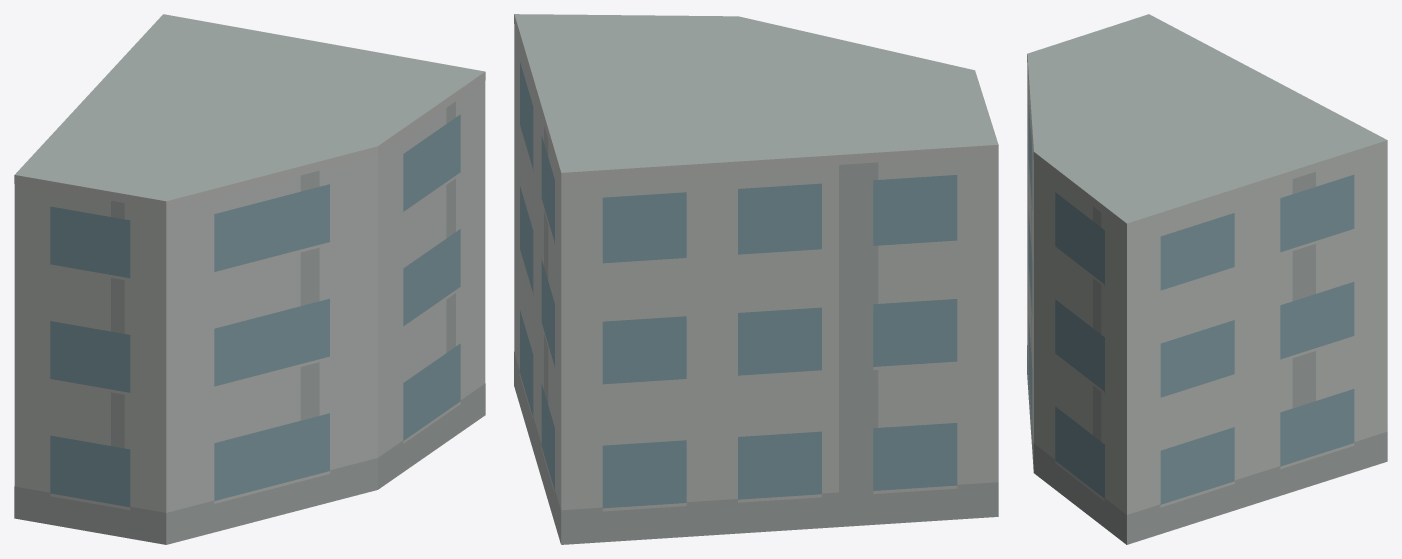
The model's file is survey-upis-32504126.glb.
3 renders of one model, left to right at view 1: azimuth 30°, elevation 25°; view 2: azimuth 150°, elevation 25°; view 3: azimuth 270°, elevation 25°, orthographic. The views are drawn at different scales.
Visible parts, largest first — view 1: survey-upis-32504126.tmp; view 2: survey-upis-32504126.tmp; view 3: survey-upis-32504126.tmp.
Part boxes in pixels (x1,y1,x2,y2): survey-upis-32504126.tmp: [14, 14, 485, 544]; survey-upis-32504126.tmp: [514, 14, 998, 544]; survey-upis-32504126.tmp: [1027, 14, 1387, 544].
Size of the model in its own units: 12.8 by 9.15 by 9.31.
